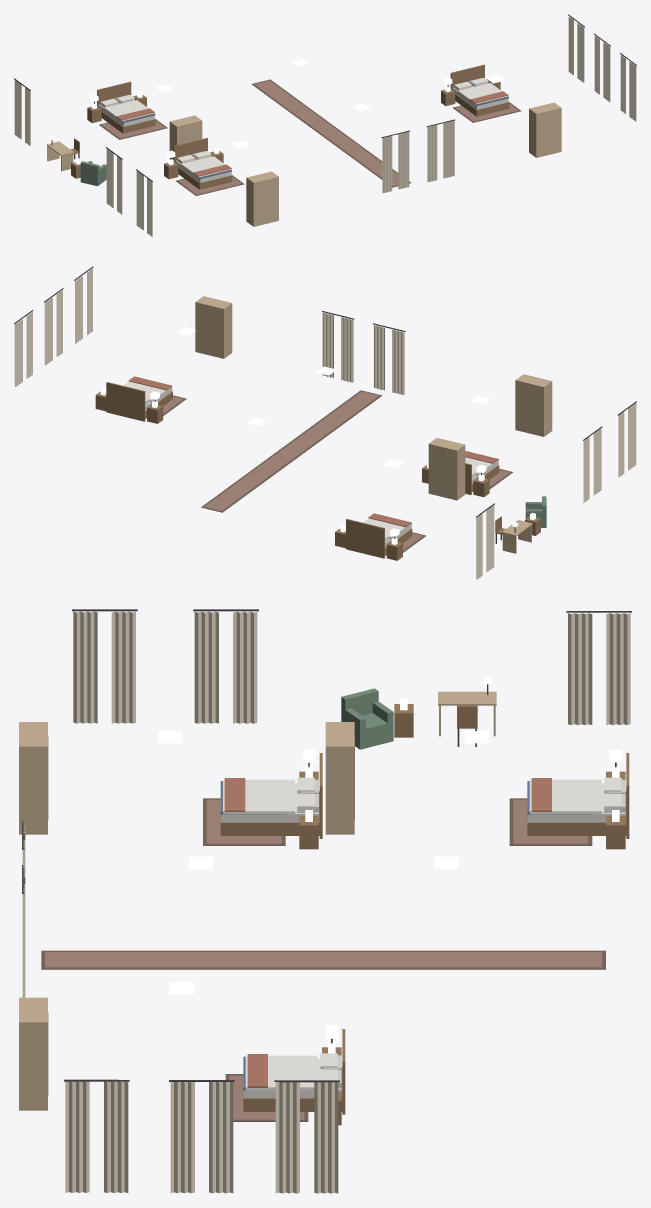
The model's file is fine-s3.glb.
3 renders of one model, top to bottom at view 1: azimuth 30°, elevation 25°; view 2: azimuth 150°, elevation 25°; view 3: azimuth 270°, elevation 25°, orthographic. The views are drawn at different scales.
Parts seen in each view (by area): view 1: soft-s3, dresser.006, dresser.008, bed-frame.007, bed-frame.006, bed-frame.008, dresser.007, lounge-chair.002, writing-desk.002; view 2: soft-s3, dresser.008, dresser.006, dresser.007, bed-frame.006, bed-frame.007, writing-desk.002, bed-frame.008; view 3: soft-s3, dresser.006, dresser.007, dresser.008, bed-frame.007, bed-frame.008, lounge-chair.002, bed-frame.006, writing-desk.002.
Part boxes in pixels (x1,y1,x2,y2): soft-s3: (14,14,636,236); dresser.006: (529,102,561,157); dresser.008: (246,171,278,226); bed-frame.007: (97,81,155,133); bed-frame.006: (450,64,509,116); bed-frame.008: (173,138,232,189); dresser.007: (169,115,202,159); lounge-chair.002: (80,161,106,186); writing-desk.002: (46,136,73,171); soft-s3: (14,266,636,579); dresser.008: (515,374,552,436); dresser.006: (195,296,232,358); dresser.007: (428,438,465,500); bed-frame.006: (106,382,172,421); bed-frame.007: (346,519,412,558); writing-desk.002: (502,520,532,553); bed-frame.008: (465,459,499,494); soft-s3: (22,609,631,1193); dresser.006: (19,997,48,1110); dresser.007: (325,722,354,834); dresser.008: (19,722,48,834); bed-frame.007: (527,753,629,838); bed-frame.008: (220,753,322,838); lounge-chair.002: (341,688,393,749); bed-frame.006: (243,1029,345,1114); writing-desk.002: (438,676,496,736).
Bounding box in the file's own units: 22.95 × 2.61 × 12.61.
